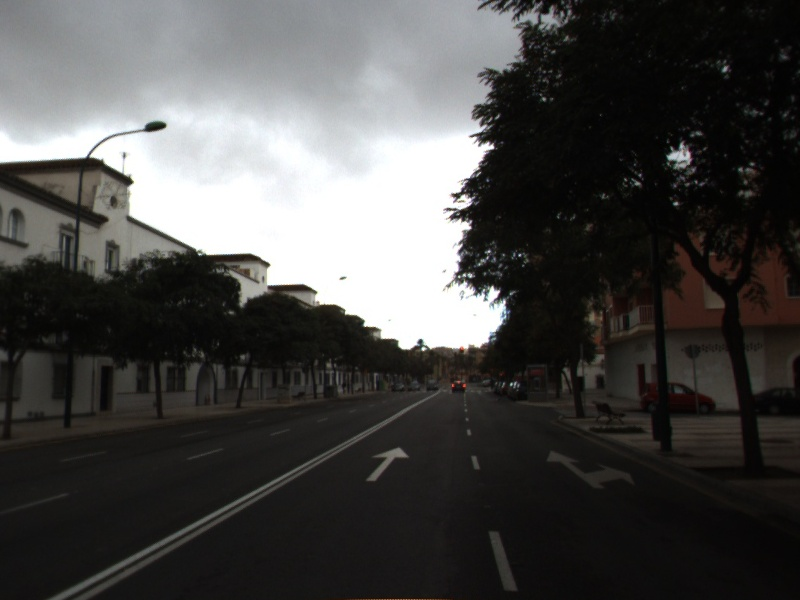STRAIGHT: (365, 445, 411, 482)
STRAIGHT_RIGHT: (545, 449, 637, 490)
